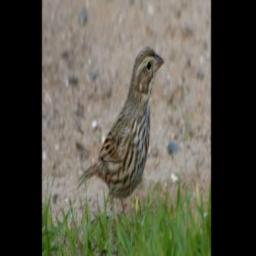Sparrow: (77, 39, 165, 255)
